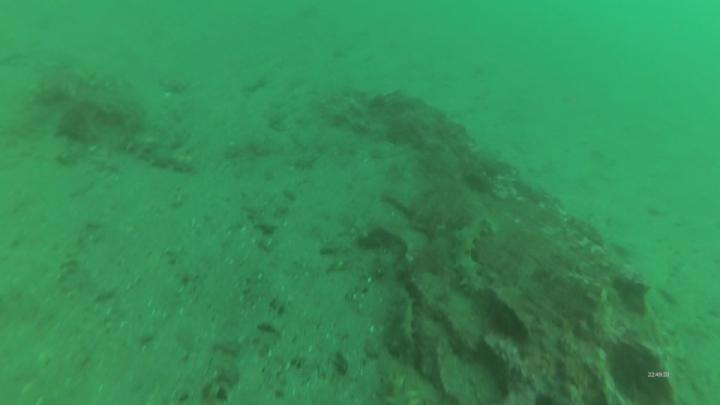holothurian: (115, 127, 197, 180), (448, 219, 490, 298), (386, 291, 422, 366), (69, 64, 138, 95), (375, 374, 426, 405)
